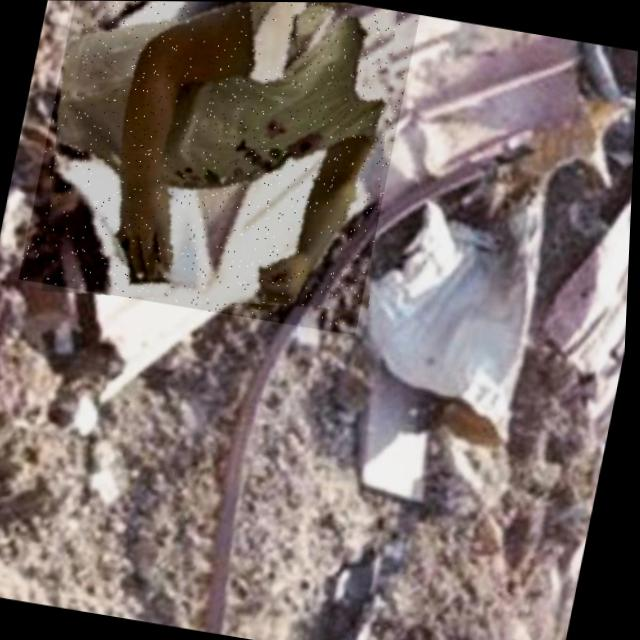Person in Rubble: (17, 0, 419, 335)
